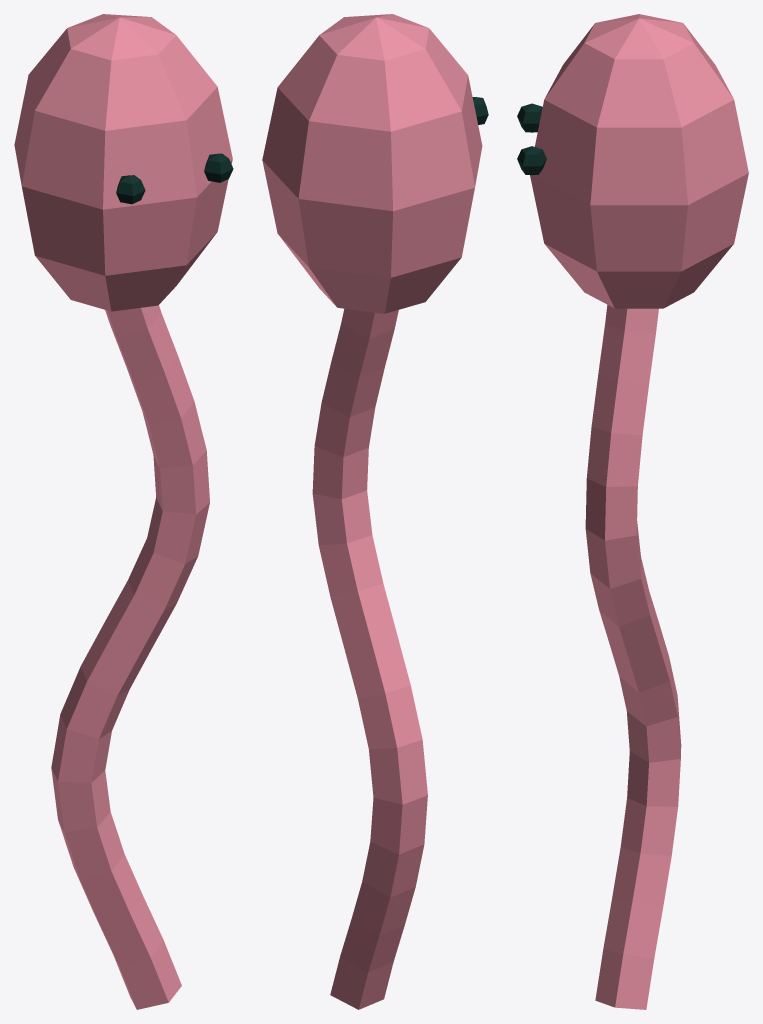
Rendered from swamp_pinkHanger.glb.
3 renders of one model, left to right at view 1: azimuth 30°, elevation 25°; view 2: azimuth 150°, elevation 25°; view 3: azimuth 270°, elevation 25°, orthographic.
Visible parts, largest first — view 1: n1, n3, n6, n5; view 2: n1, n3; view 3: n1, n3, n6, n5.
Boxes of the visible parts, x1,y1,x2,y2 form: n1: (14, 14, 232, 311); n3: (51, 305, 209, 1009); n6: (204, 153, 233, 182); n5: (116, 175, 145, 204); n1: (262, 14, 482, 313); n3: (312, 308, 427, 1009); n1: (530, 14, 748, 308); n3: (585, 305, 681, 1009); n6: (517, 146, 546, 175); n5: (517, 103, 542, 132).
Size of the model in its own units: 0.6786 by 3.43 by 0.7356.
